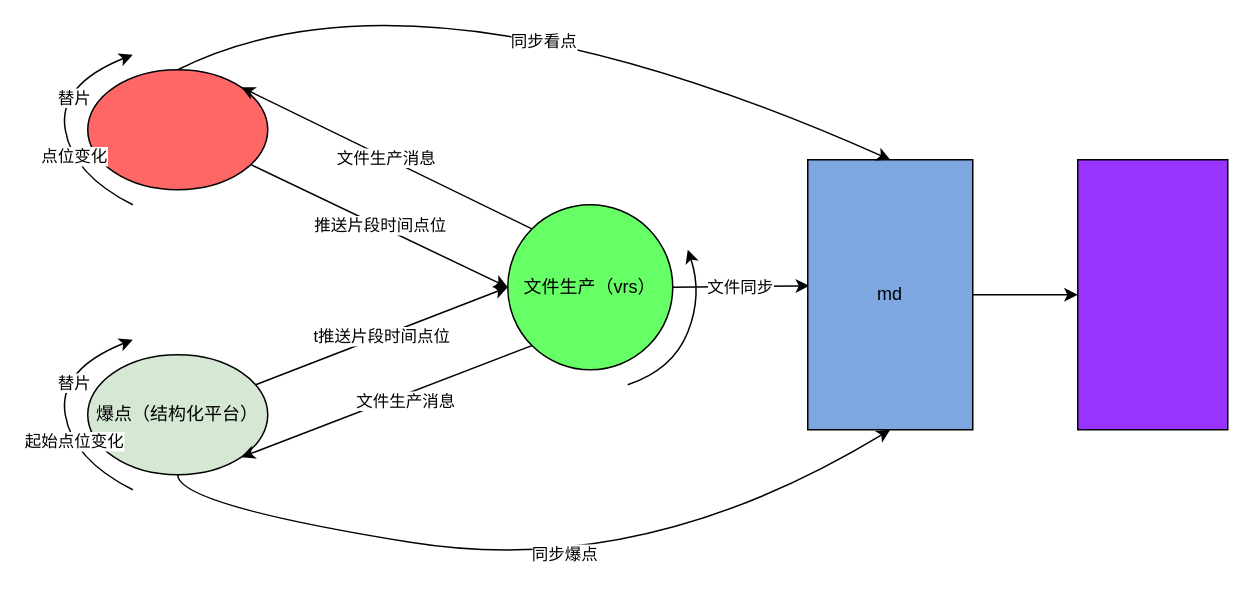
This 1256x591 diagram has some shape labels left out. Here are the shapes that lost their labels. From the top down, the centre of each, then its label:
At pixel 177 129: "看点（vrs）".
At pixel 1152 294: "一层".
